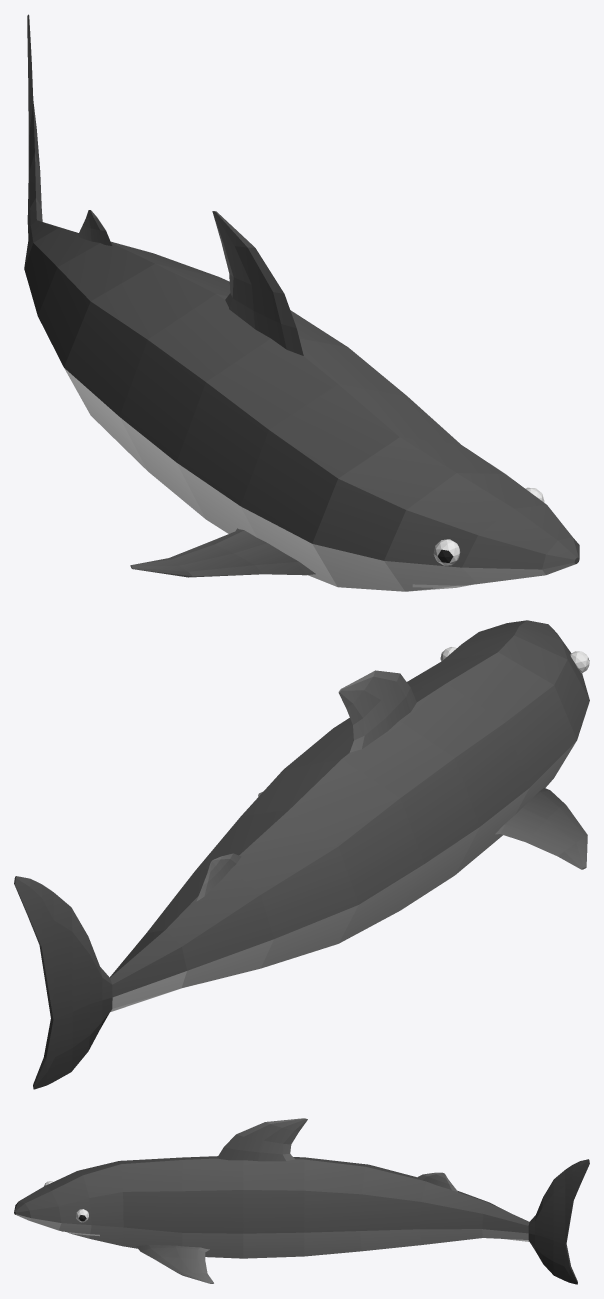
File: shark.glb
3 views of the same model, one above another, from view 1: azimuth 30°, elevation 25°; view 2: azimuth 150°, elevation 25°; view 3: azimuth 270°, elevation 25° (orthographic). The views are drawn at different scales.
Parts seen in each view (by area): view 1: fins.002; view 2: fins.002; view 3: fins.002.
Part boxes in pixels (<box>): fins.002: <box>24,14,579,591</box>; fins.002: <box>14,620,589,1089</box>; fins.002: <box>14,1118,589,1284</box>.
Size of the model in its own units: 3.24 by 2.39 by 8.6.
5 materials, 1 textured.
